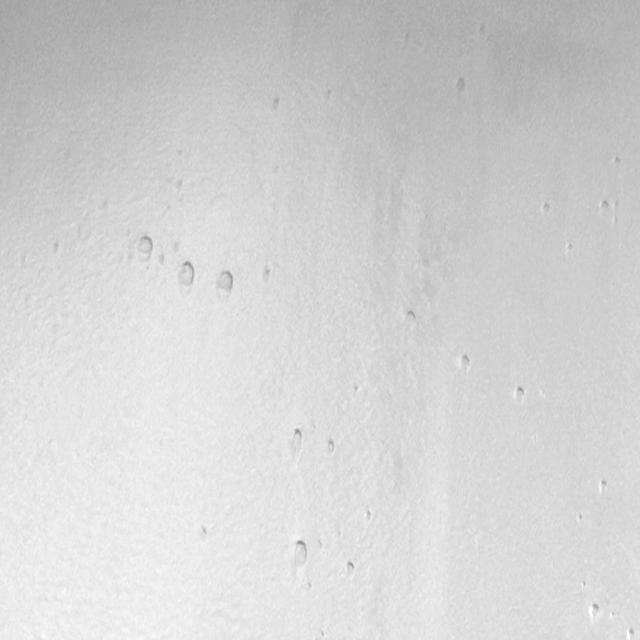pin holes: (175, 258, 199, 291), (213, 268, 237, 300), (132, 232, 154, 266), (289, 538, 312, 569), (289, 426, 308, 451), (451, 73, 469, 98), (258, 263, 275, 286), (456, 354, 474, 375), (400, 307, 418, 328), (265, 92, 282, 114), (48, 237, 63, 260), (319, 84, 336, 104), (585, 602, 600, 623), (511, 385, 526, 406), (322, 437, 337, 458), (597, 198, 612, 218), (359, 505, 374, 525), (341, 560, 355, 580), (194, 522, 209, 540), (539, 200, 552, 217), (608, 154, 621, 169), (597, 479, 608, 496), (564, 240, 575, 257), (351, 380, 362, 396), (172, 174, 182, 191), (574, 512, 585, 526), (315, 533, 324, 550), (625, 626, 636, 638), (577, 579, 588, 591), (302, 580, 313, 592), (318, 628, 328, 638), (609, 611, 618, 622)
